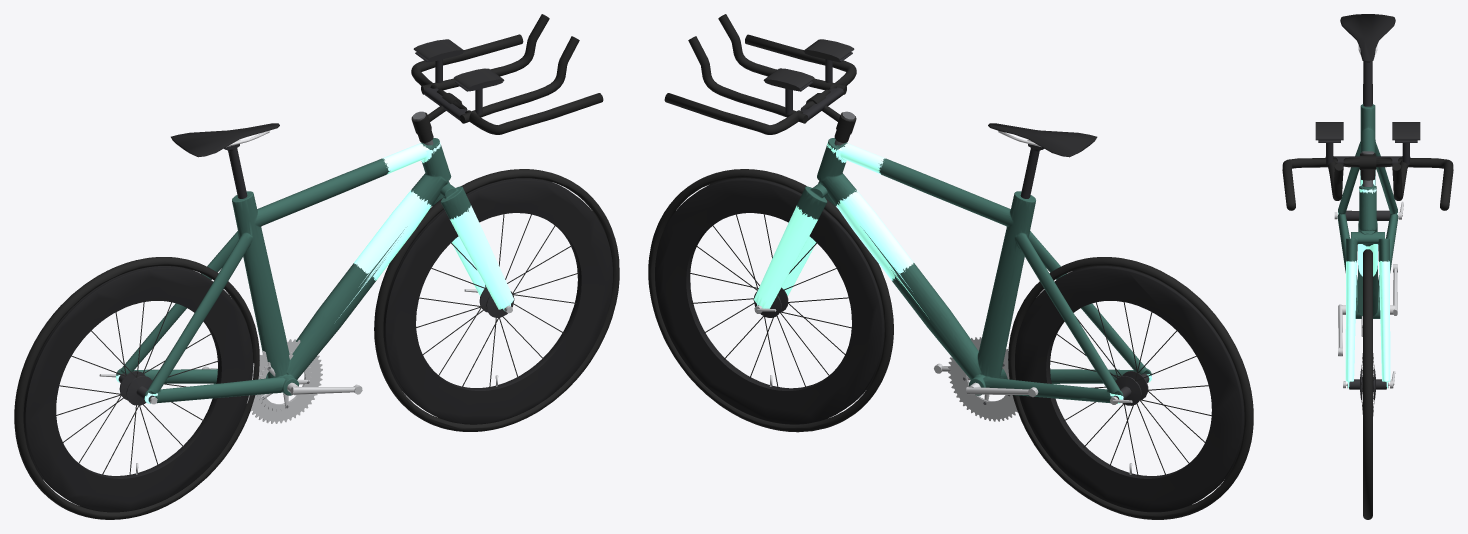
File: bike_lite.glb
3 renders of one model, left to right at view 1: azimuth 30°, elevation 25°; view 2: azimuth 150°, elevation 25°; view 3: azimuth 270°, elevation 25°, orthographic. The views are drawn at different scales.
Parts seen in each view (by area): view 1: rim_front, fork, basebar, tyre_front, saddle; view 2: rim_front, fork, basebar, tyre_front, saddle; view 3: fork, basebar, tyre_front, saddle.
Boxes of the visible parts, x1,y1,x2,y2 form: rim_front: [23, 178, 612, 512]; fork: [116, 138, 513, 403]; basebar: [56, 14, 603, 475]; tyre_front: [14, 169, 619, 519]; saddle: [171, 123, 279, 157]; rim_front: [655, 178, 1244, 512]; fork: [754, 138, 1151, 403]; basebar: [664, 14, 1211, 475]; tyre_front: [648, 169, 1253, 519]; saddle: [988, 123, 1097, 157]; fork: [1337, 104, 1398, 388]; basebar: [1282, 45, 1453, 415]; tyre_front: [1363, 84, 1372, 519]; saddle: [1340, 14, 1395, 62].
Size of the model in its own units: 1.66 by 1.02 by 0.4242.
6 materials, 6 textured.
